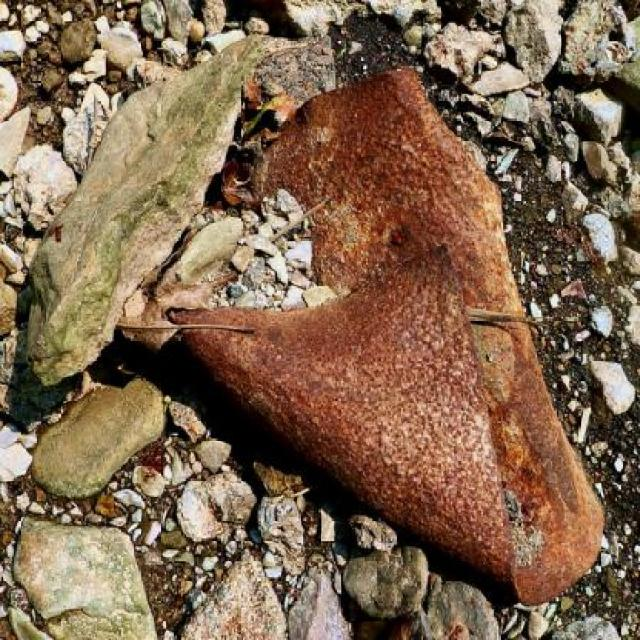corrosion: (142, 61, 615, 608)
